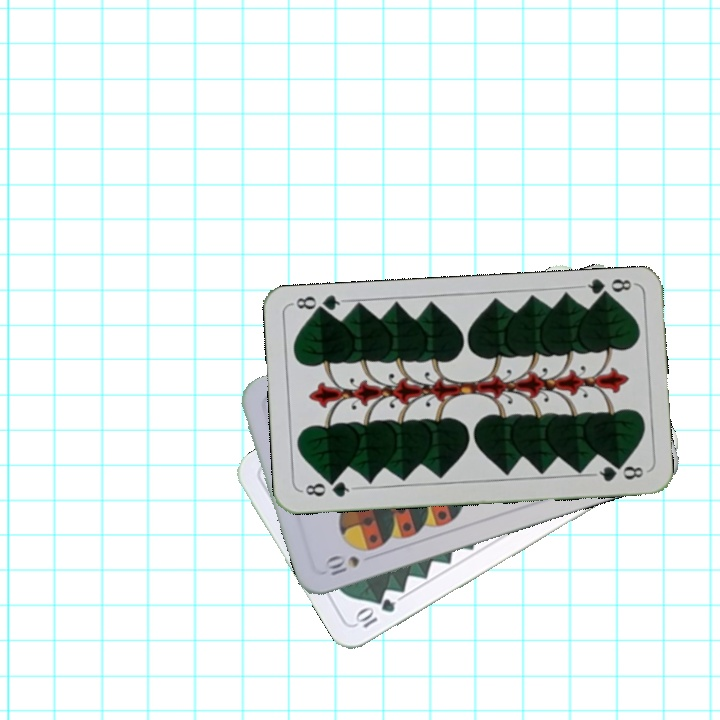G10: (351, 594, 398, 631)
G8: (577, 275, 637, 303), (298, 476, 357, 500)
S10: (323, 551, 362, 578)
